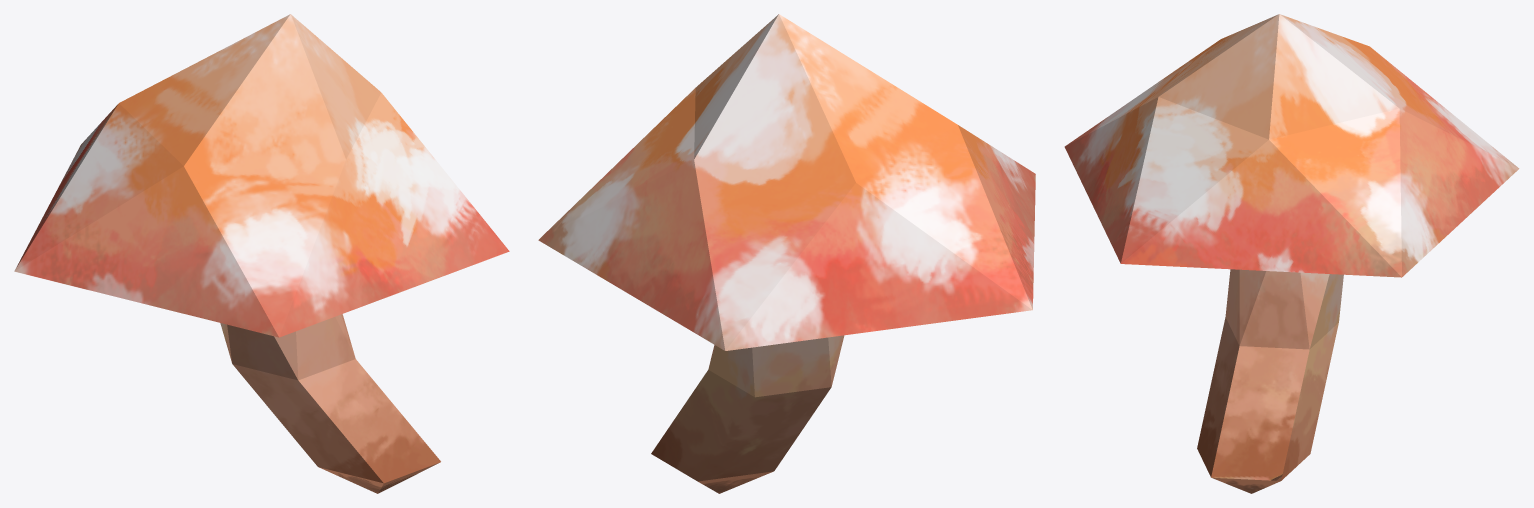
The model's file is mushroom01.fbx.
3 views of the same model, side by side, from view 1: azimuth 30°, elevation 25°; view 2: azimuth 150°, elevation 25°; view 3: azimuth 270°, elevation 25° (orthographic). The views are drawn at different scales.
Parts seen in each view (by area): view 1: mushroom01; view 2: mushroom01; view 3: mushroom01.
Boxes of the visible parts, bbox=[...] form: mushroom01: bbox=[14, 14, 509, 493]; mushroom01: bbox=[538, 14, 1035, 493]; mushroom01: bbox=[1064, 14, 1519, 493].
Size of the model in its own units: 122 by 134 by 123.
Materials: 1 (1 with a texture image).
